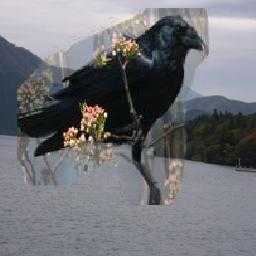Crow: (18, 9, 213, 206)
